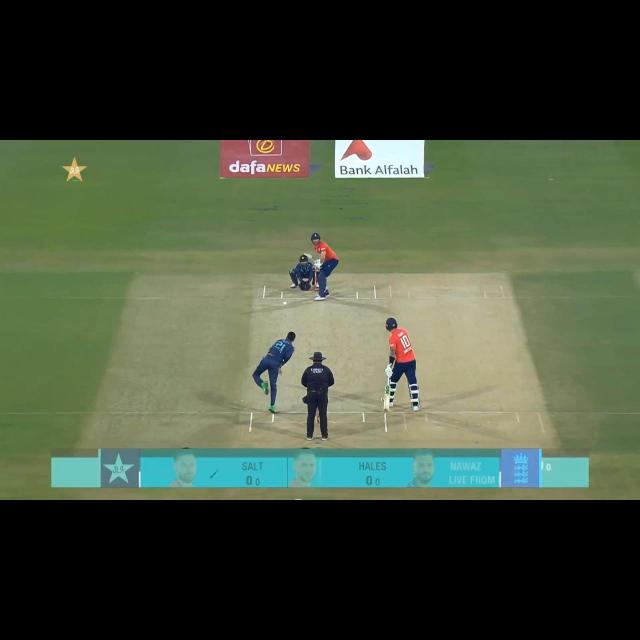bat: (384, 386, 391, 414), (304, 253, 316, 261)
toe: (382, 409, 390, 414), (304, 253, 309, 257)
